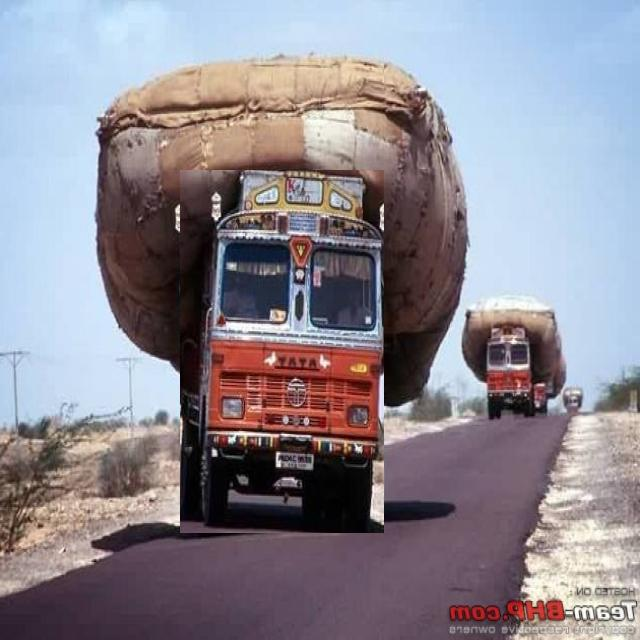truck: (180, 171, 384, 533)
